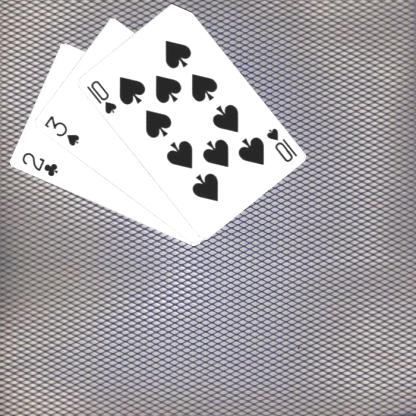10S: (83, 78, 118, 116), (264, 125, 298, 164)
2C: (18, 150, 59, 178)
3S: (41, 113, 81, 147)
